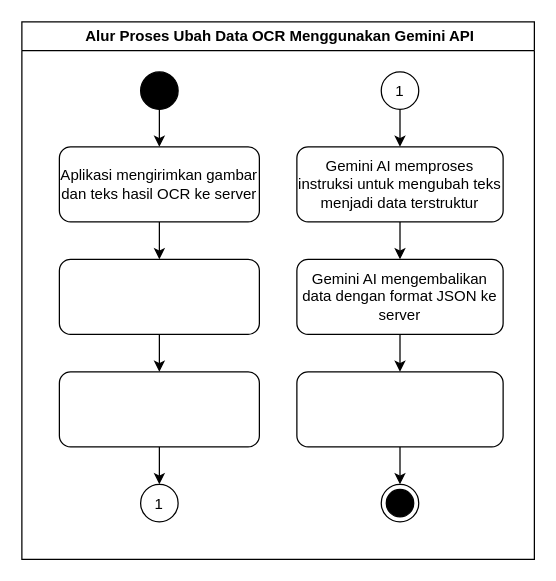
The diagram is 556 pixels wide and 581 high, and some of its shapes have lost their labels. Here are the shapes that lost their labels. From the top down, the centre of each, then its label:
At [158,296]: "Server menerima gambar dan teks hasil OCR".
At [158,409]: "Server mengirimkan teks hasil OCR dan instruksi ke Gemini AI".
At [399,409]: "Server menerima data JSON dan menyimpannya ke basis data".
